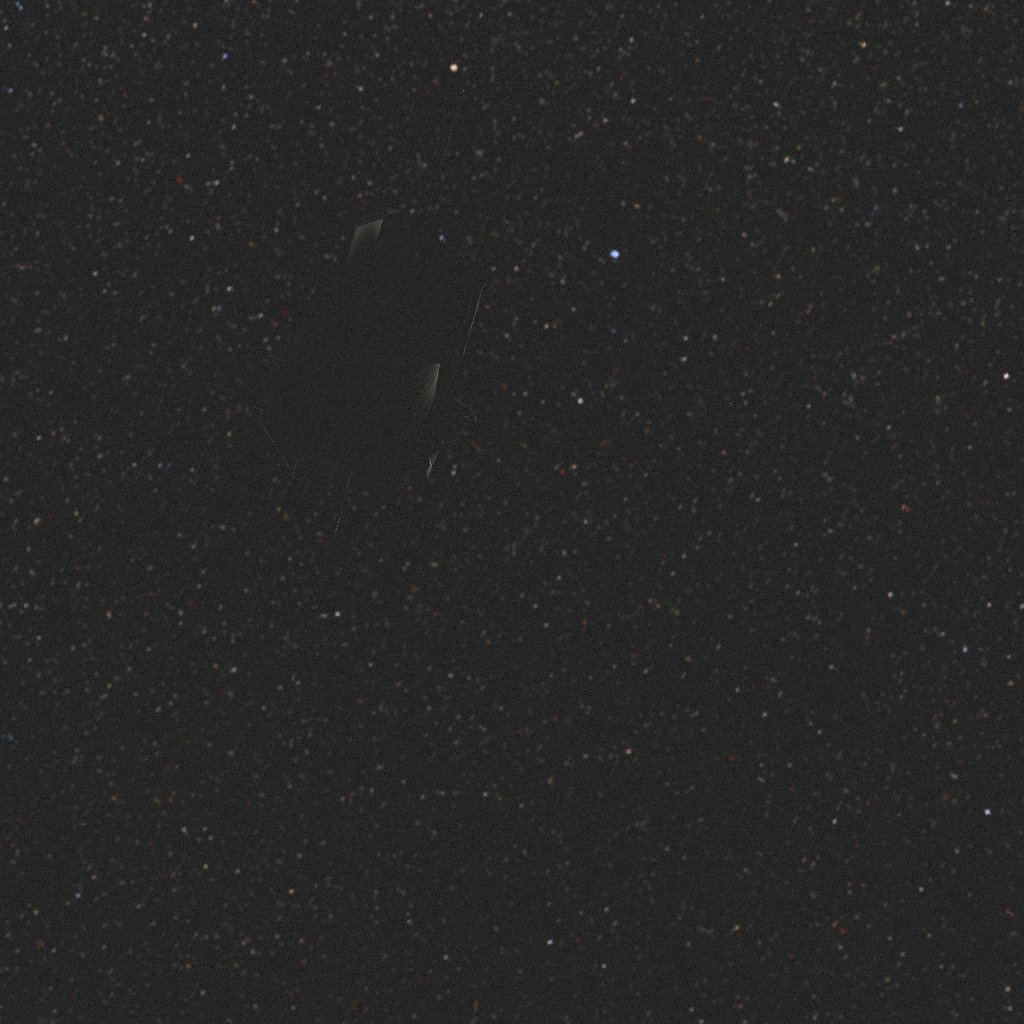xmm_newton: (234, 195, 523, 525)
